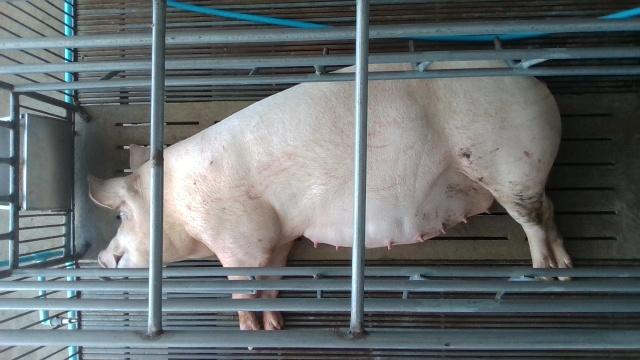sow-sleep-lactate: (86, 59, 572, 331)
